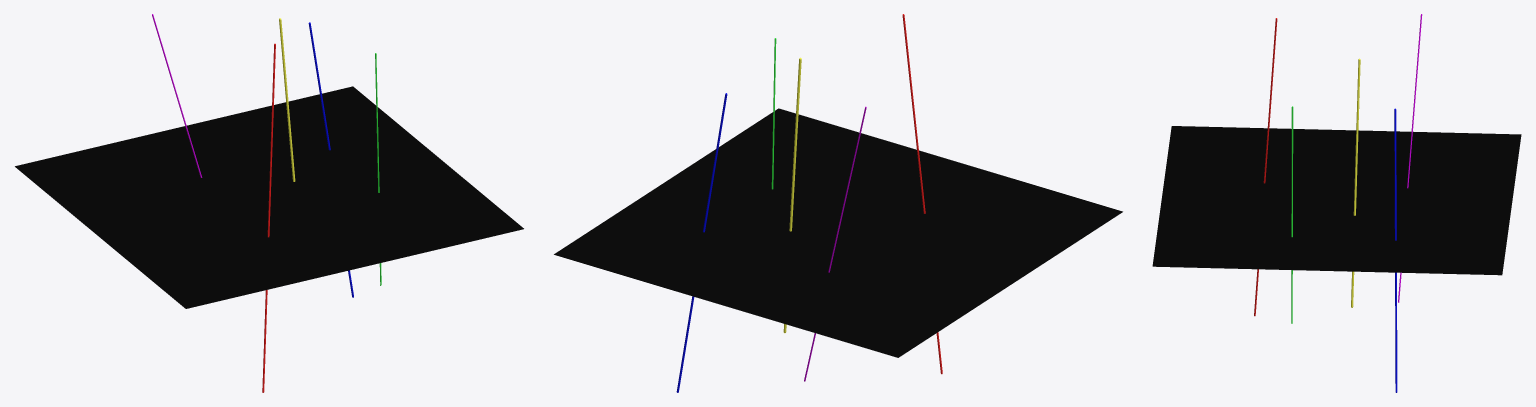
File: LageB_zwischen_ebene_gerade_senkrecht.glb
3 views of the same model, side by side, from view 1: azimuth 30°, elevation 25°; view 2: azimuth 150°, elevation 25°; view 3: azimuth 270°, elevation 25° (orthographic). The views are drawn at different scales.
Visible parts, largest first — view 1: p.0079, s.0060, s.0064; view 2: p.0079, s.0086, s.0060, s.0064; view 3: p.0079, s.0086, s.0064, s.0060, s.0084, s.0047.
Boxes of the visible parts, box(x1,y1,x2,y2) form: p.0079: box(15, 86, 523, 308); s.0060: box(262, 43, 275, 392); s.0064: box(279, 18, 295, 181); p.0079: box(554, 108, 1122, 357); s.0086: box(676, 93, 727, 392); s.0060: box(902, 14, 942, 374); s.0064: box(783, 57, 801, 333); p.0079: box(1152, 126, 1521, 275); s.0086: box(1394, 108, 1397, 392); s.0064: box(1351, 58, 1360, 307); s.0060: box(1254, 18, 1277, 316); s.0084: box(1291, 106, 1293, 323); s.0047: box(1398, 14, 1422, 302).
Size of the model in its own units: 0.7927 by 0.7361 by 0.7928.
